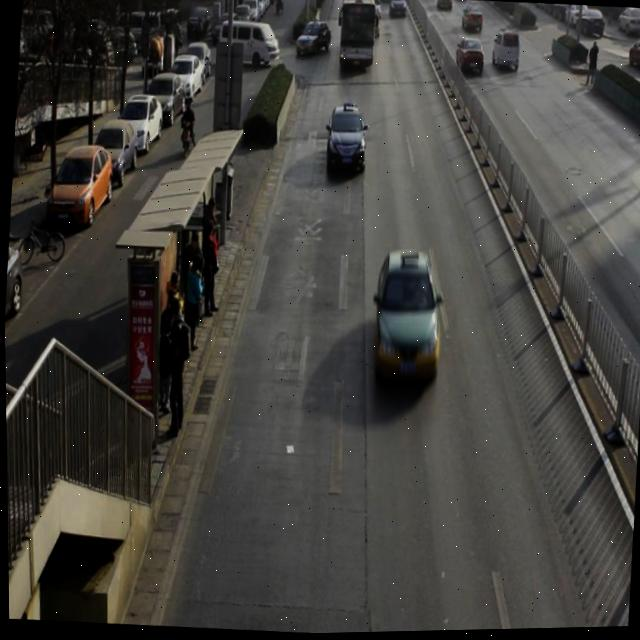car: (368, 253, 449, 389), (321, 105, 372, 185), (492, 29, 523, 80), (301, 20, 332, 60), (456, 39, 487, 78), (459, 3, 487, 38), (365, 8, 383, 43), (389, 0, 408, 21), (435, 0, 453, 12)
van: (336, 0, 375, 71)
